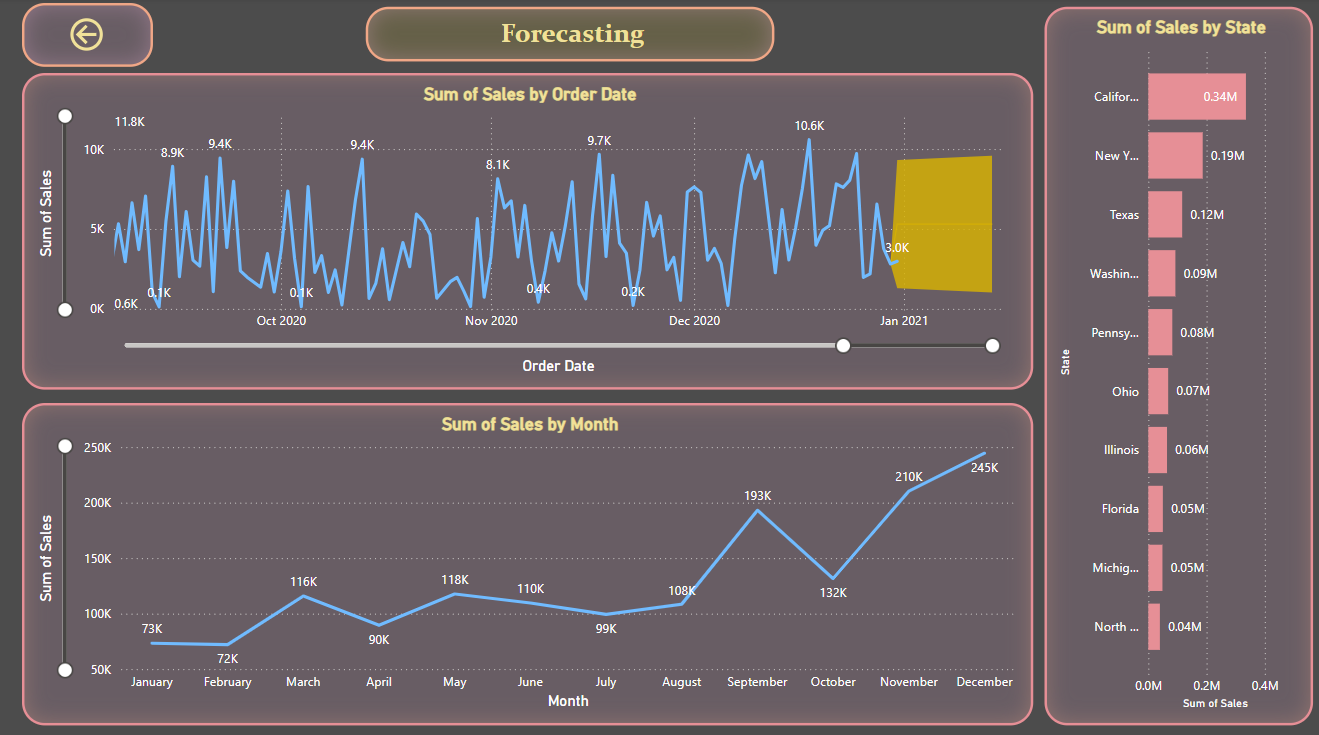

Layout of this report page (visuals, bound fields, positions):
{"tool":"powerbi","page":{"name":"Page 2","canvas":[1280,720],"ordinal":1},"visuals":[{"type":"lineChart","fields":{"Y":["Sum(SuperStore_Sales_Dataset.Sales)"],"Category":["SuperStore_Sales_Dataset.Order Date"]},"box":[24.1,72.4,976,305.2],"z":0},{"type":"lineChart","fields":{"Y":["Sum(SuperStore_Sales_Dataset.Sales)"],"Category":["SuperStore_Sales_Dataset.Order Date.Variation.Date Hierarchy.Month","SuperStore_Sales_Dataset.Order Date.Variation.Date Hierarchy.Day"]},"box":[24.1,390.9,976,311.3],"z":1000},{"type":"actionButton","box":[24.1,4.8,126.7,61.5],"z":2000},{"type":"textbox","title":"Forecasting","box":[355.9,8.4,394.5,53.1],"z":3000},{"type":"clusteredBarChart","fields":{"Category":["SuperStore_Sales_Dataset.State"],"Y":["Sum(SuperStore_Sales_Dataset.Sales)"]},"box":[1011,8.4,259.4,693.7],"z":4000}]}

Visuals, with their boxes in screenshot pixels (x1, y1, x2, y2), scaled from the page's 1280x720 canvas onto the 1319x735 screenshot:
lineChart - Sum(SuperStore_Sales_Dataset.Sales) x SuperStore_Sales_Dataset.Order Date: l=25, t=74, r=1031, b=385
lineChart - Sum(SuperStore_Sales_Dataset.Sales) x SuperStore_Sales_Dataset.Order Date.Variation.Date Hierarchy.Month: l=25, t=399, r=1031, b=717
actionButton: l=25, t=5, r=155, b=68
"Forecasting" textbox: l=367, t=9, r=773, b=63
clusteredBarChart - SuperStore_Sales_Dataset.State x Sum(SuperStore_Sales_Dataset.Sales): l=1042, t=9, r=1309, b=717
